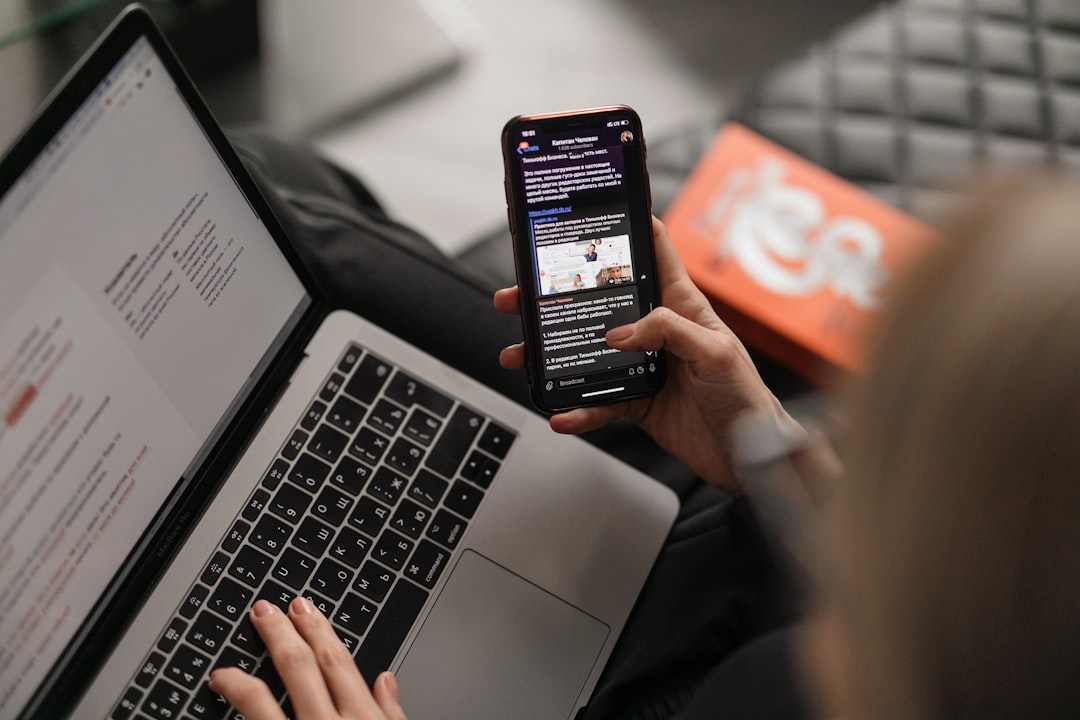phone: (503, 105, 670, 414)
